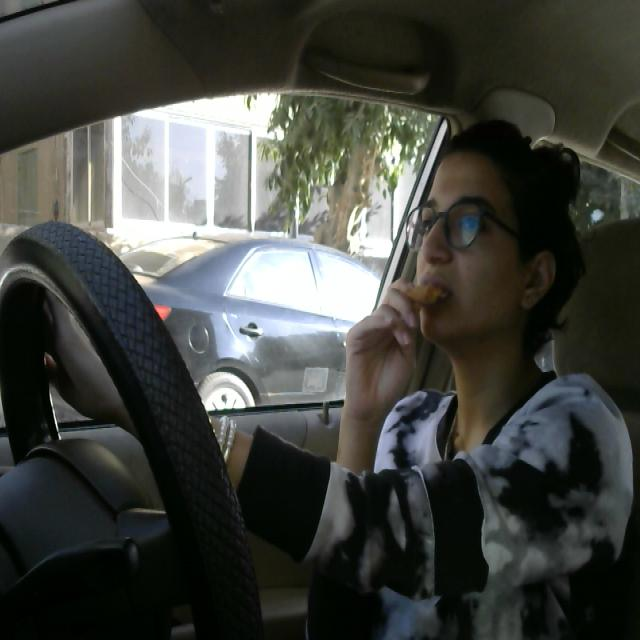eating: (394, 284, 449, 312)
